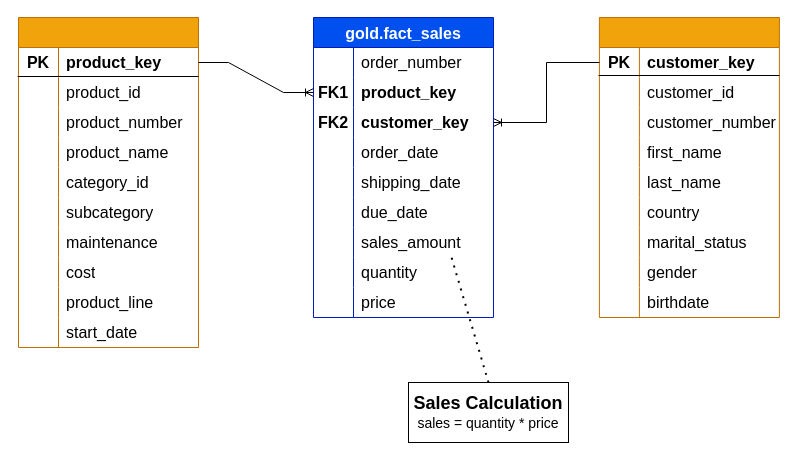
This 798x460 diagram has some shape labels left out. Each missing label, with the box of its shape:
gold.dim_customers: (598, 16, 779, 318)
gold.dim_products: (18, 16, 198, 348)
